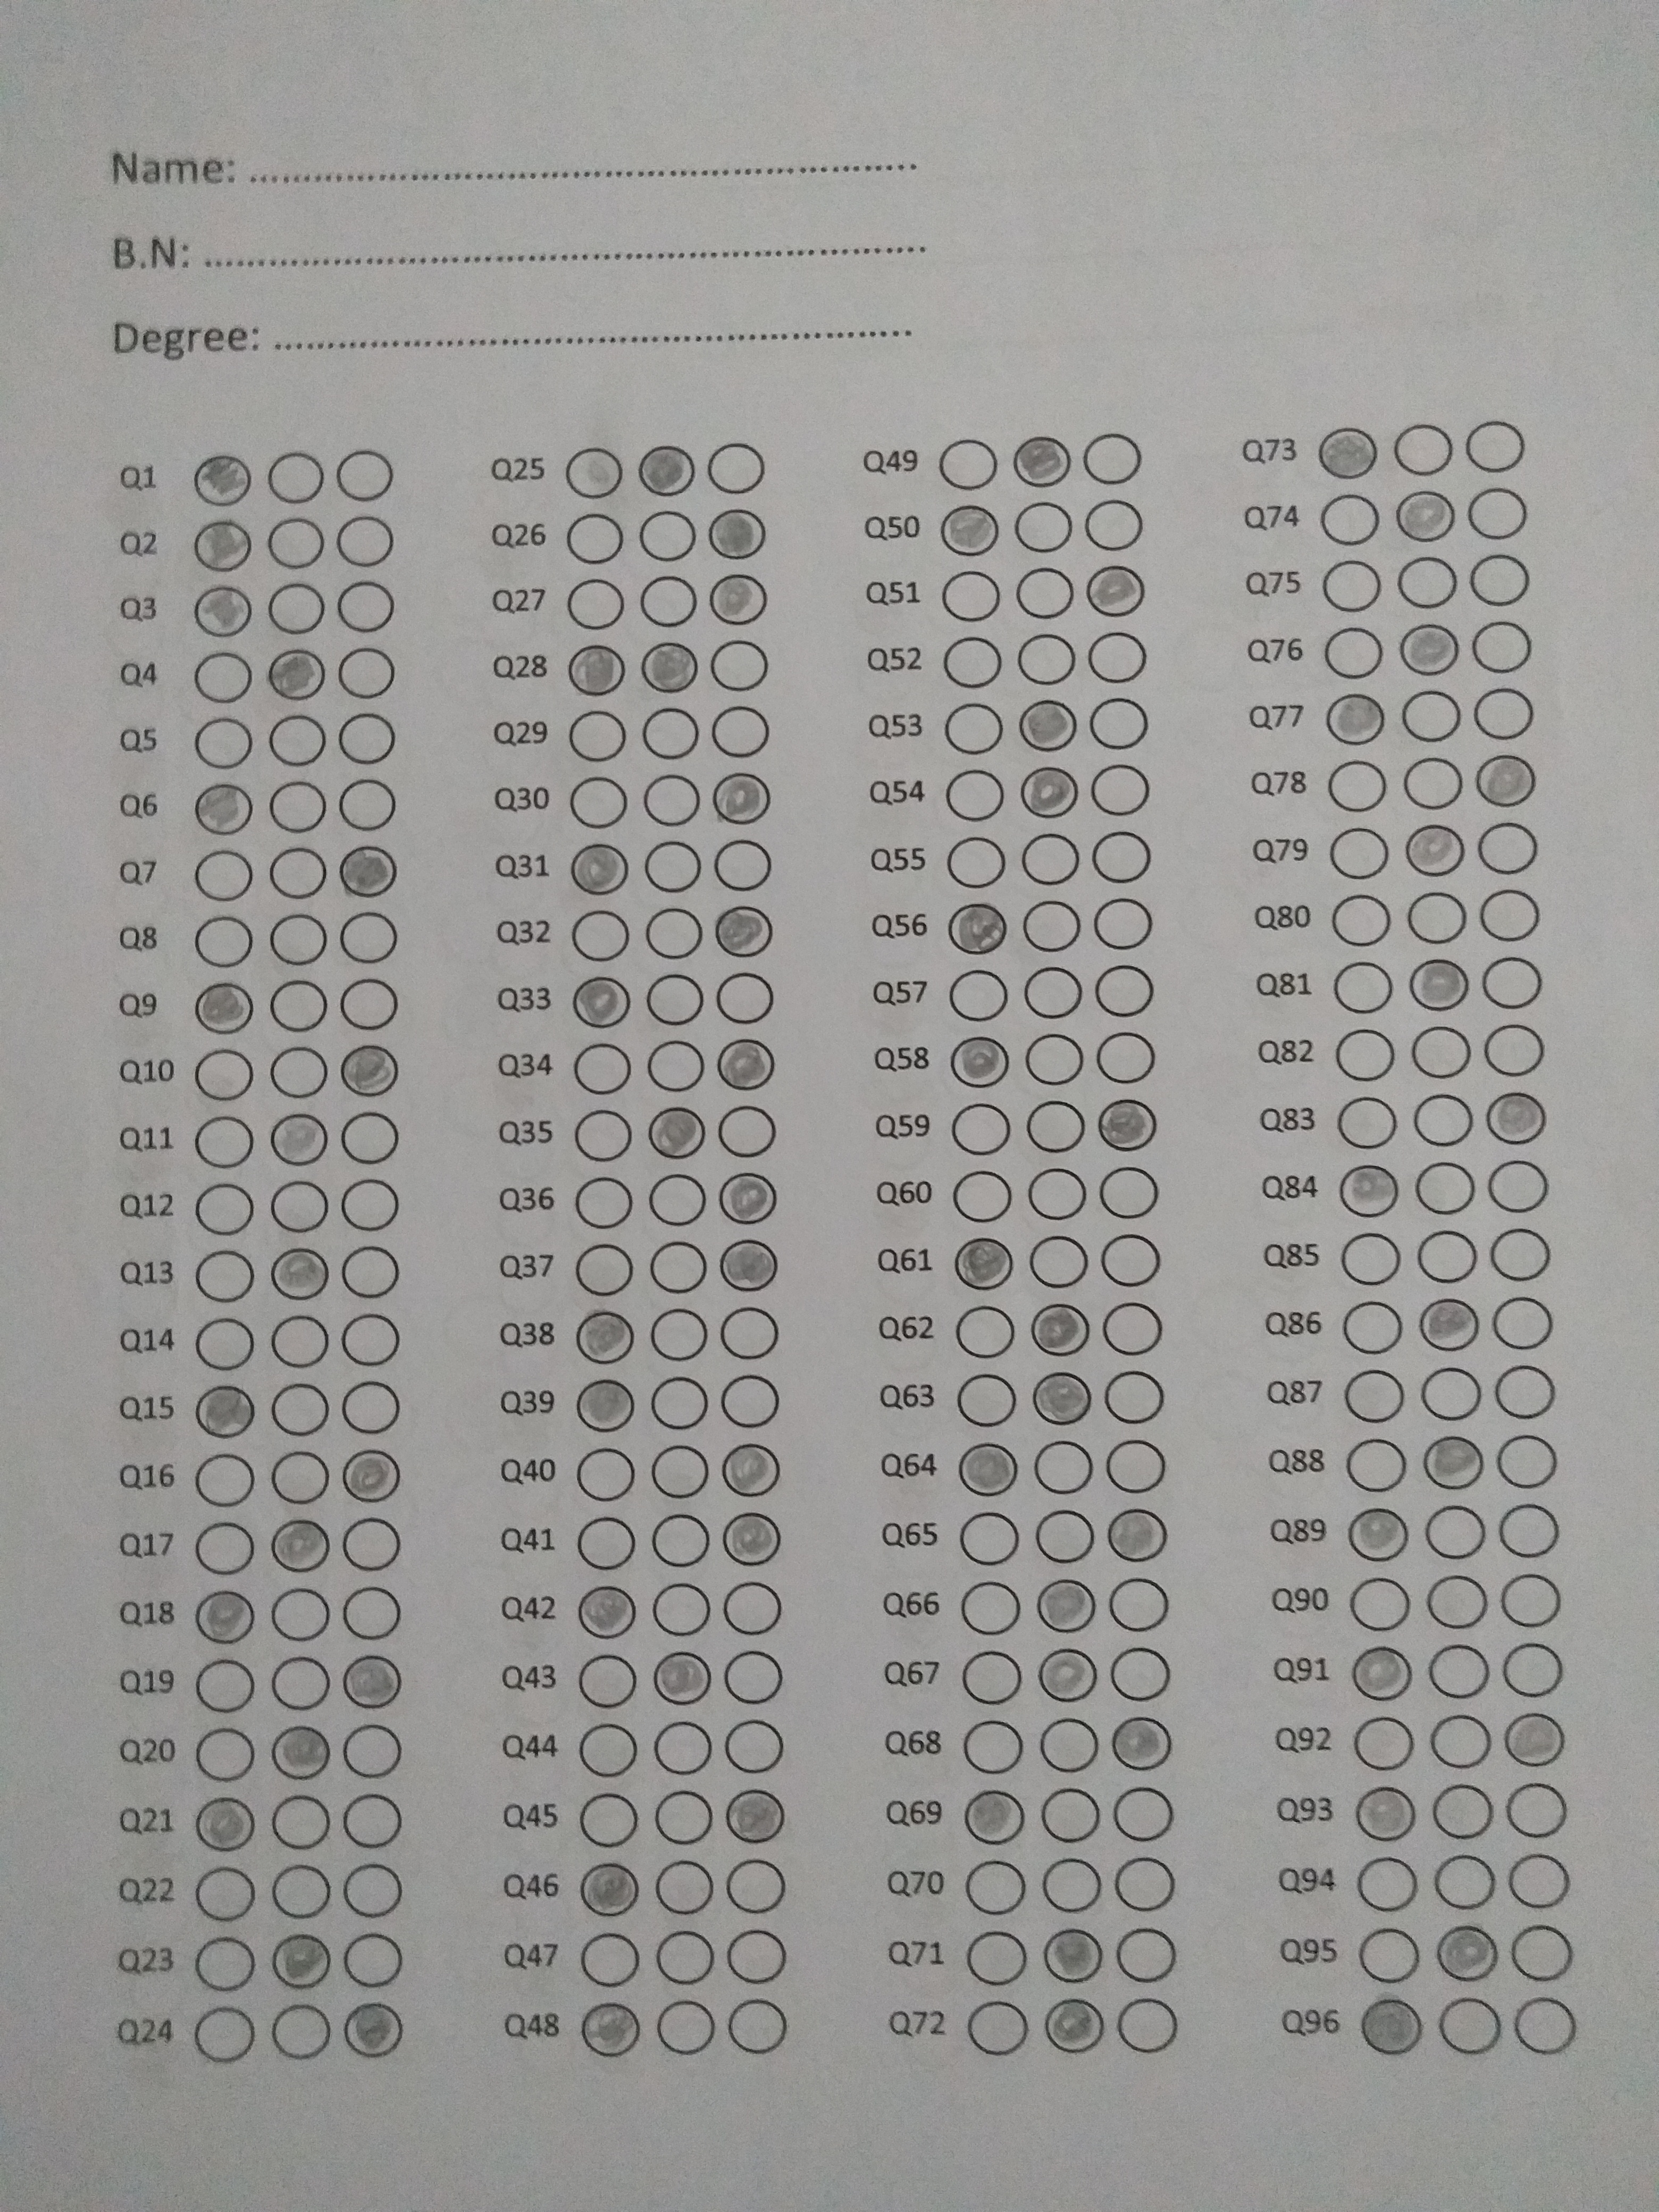not-c: (1436, 1991, 1507, 2057), (1340, 1362, 1413, 1426), (1483, 1155, 1554, 1217), (1410, 1155, 1481, 1217), (1016, 1029, 1087, 1092), (941, 698, 1012, 761), (1087, 761, 1159, 824), (1323, 822, 1394, 885), (1330, 1022, 1401, 1085), (1478, 1019, 1549, 1082), (1432, 1848, 1499, 1914), (1513, 1993, 1579, 2059), (1096, 1158, 1166, 1221), (1091, 1026, 1161, 1089), (946, 1094, 1016, 1157), (946, 1162, 1016, 1224), (1331, 1090, 1401, 1153), (1401, 888, 1471, 951), (1014, 827, 1084, 890), (1014, 897, 1084, 960), (1018, 963, 1087, 1026), (1328, 958, 1398, 1021), (1354, 1925, 1424, 1987), (1019, 1162, 1091, 1223), (1396, 752, 1467, 813), (943, 831, 1014, 892), (943, 965, 1014, 1026), (1091, 960, 1162, 1021), (1324, 894, 1396, 954), (1406, 1092, 1478, 1153), (1406, 1024, 1478, 1085), (1506, 1923, 1574, 1986), (1474, 887, 1544, 948), (1021, 1094, 1091, 1155), (1469, 683, 1539, 744), (1323, 756, 1392, 817), (1086, 691, 1155, 752), (939, 765, 1009, 826), (1089, 829, 1159, 890), (1091, 895, 1161, 956), (1471, 817, 1540, 878), (1480, 954, 1549, 1015), (1492, 1362, 1560, 1423), (1338, 1230, 1408, 1289), (1396, 685, 1466, 744), (572, 1103, 634, 1167), (1419, 1362, 1483, 1425), (1014, 627, 1080, 688), (1486, 1224, 1554, 1284), (1338, 1299, 1410, 1355), (1506, 1850, 1570, 1911), (1467, 552, 1532, 611), (1321, 556, 1385, 615), (1012, 561, 1077, 620), (1391, 418, 1455, 477), (1086, 627, 1150, 686), (938, 434, 1002, 493), (1080, 428, 1145, 488), (1467, 615, 1532, 674), (634, 507, 701, 564), (265, 446, 326, 507), (333, 444, 394, 505), (962, 1716, 1025, 1775), (1396, 554, 1459, 613), (1467, 484, 1530, 543), (1464, 415, 1527, 474), (1009, 496, 1072, 556), (1084, 496, 1147, 556), (939, 564, 1002, 624), (941, 632, 1004, 691), (1492, 1292, 1556, 1350), (1317, 489, 1382, 547), (1497, 1501, 1563, 1557), (193, 1043, 254, 1103), (1429, 1644, 1490, 1703), (1117, 1996, 1180, 2054), (1425, 1571, 1488, 1629), (1500, 1641, 1563, 1698), (960, 1649, 1023, 1707), (1417, 1228, 1480, 1285), (1323, 622, 1385, 679), (268, 777, 328, 836), (267, 712, 326, 772), (709, 702, 769, 761), (711, 636, 770, 695), (638, 573, 697, 632), (195, 845, 254, 904), (268, 580, 328, 639), (270, 1176, 329, 1235), (342, 1176, 401, 1235), (647, 1036, 706, 1096), (573, 1036, 633, 1096), (340, 974, 399, 1033), (195, 911, 254, 970), (721, 1371, 781, 1430), (342, 1310, 401, 1369), (270, 1379, 329, 1439), (723, 1578, 782, 1637), (195, 1517, 254, 1576), (270, 1446, 329, 1505), (650, 1440, 709, 1500), (727, 1926, 786, 1986), (1040, 1714, 1100, 1773), (965, 1857, 1025, 1916), (1117, 1925, 1176, 1984), (967, 1926, 1026, 1986), (657, 1998, 716, 2057), (1507, 1782, 1567, 1841), (1432, 1784, 1492, 1843), (1351, 1576, 1410, 1635), (1502, 1571, 1561, 1630), (1354, 1716, 1413, 1775), (1030, 1231, 1089, 1291), (960, 1507, 1019, 1566), (1035, 1507, 1094, 1566), (270, 909, 329, 967), (193, 648, 253, 705), (645, 902, 702, 961), (572, 906, 631, 963), (336, 646, 396, 704), (268, 845, 328, 902), (565, 442, 624, 500), (336, 775, 396, 833), (335, 510, 394, 568), (193, 714, 253, 772), (706, 441, 765, 498), (713, 836, 772, 894), (643, 836, 702, 894), (568, 773, 627, 831), (566, 705, 626, 763), (568, 575, 626, 634), (565, 509, 624, 566), (336, 711, 396, 768), (195, 1111, 254, 1169), (340, 1108, 399, 1165), (340, 909, 399, 967), (268, 975, 328, 1033), (714, 968, 774, 1026), (645, 970, 704, 1028), (343, 1378, 401, 1437), (577, 1446, 636, 1503), (720, 1305, 779, 1362), (270, 1313, 329, 1371), (648, 1305, 708, 1362), (650, 1238, 709, 1296), (647, 1170, 706, 1228), (575, 1174, 634, 1231), (195, 1313, 254, 1371), (340, 1242, 399, 1299), (268, 1042, 328, 1099), (652, 1580, 711, 1637), (195, 1726, 254, 1784), (195, 1864, 254, 1921), (195, 1655, 254, 1712), (272, 1655, 331, 1712), (270, 1585, 329, 1642), (342, 1583, 401, 1641), (342, 1517, 401, 1575), (195, 1449, 254, 1507), (650, 1514, 709, 1571), (579, 1514, 638, 1571), (1108, 1578, 1168, 1635), (272, 2003, 331, 2060), (195, 2005, 254, 2062), (197, 1933, 256, 1991), (343, 1930, 403, 1987), (579, 1791, 638, 1848), (653, 1789, 713, 1846), (723, 1716, 782, 1773), (653, 1717, 713, 1775), (579, 1721, 638, 1778), (723, 1649, 782, 1707), (579, 1653, 638, 1710), (343, 1792, 403, 1850), (1114, 1784, 1173, 1841), (1042, 1785, 1101, 1843), (1044, 1855, 1103, 1912), (1115, 1855, 1175, 1912), (969, 2000, 1028, 2057), (728, 1998, 788, 2055), (1358, 1855, 1417, 1912), (1347, 1435, 1406, 1493), (1425, 1501, 1485, 1559), (1431, 1712, 1490, 1770), (1497, 1432, 1556, 1489), (1101, 1231, 1161, 1289), (1107, 1437, 1166, 1494), (955, 1305, 1014, 1362), (1105, 1369, 1164, 1426), (958, 1372, 1016, 1432), (1033, 1439, 1093, 1496), (962, 1580, 1021, 1637), (1112, 1646, 1171, 1703), (573, 1242, 634, 1298), (336, 578, 394, 636), (197, 1179, 254, 1237), (643, 768, 701, 826), (643, 704, 701, 761), (267, 514, 324, 571), (650, 1374, 708, 1432), (718, 1101, 775, 1158), (197, 1245, 254, 1303), (657, 1926, 714, 1984), (582, 1932, 640, 1989), (727, 1857, 784, 1914), (655, 1857, 713, 1914), (274, 1860, 331, 1918), (343, 1860, 401, 1918), (272, 1792, 329, 1850), (343, 1723, 401, 1780), (1103, 1299, 1161, 1357)
taken-c: (1406, 953, 1473, 1015), (1359, 1994, 1424, 2057), (1354, 1784, 1420, 1844), (1417, 1294, 1483, 1355), (1349, 1644, 1417, 1703), (570, 1308, 638, 1367), (1420, 1433, 1486, 1493), (1037, 1644, 1103, 1703), (1432, 1926, 1500, 1984), (962, 1785, 1025, 1846), (575, 1374, 638, 1435), (190, 451, 254, 510), (190, 516, 254, 575), (647, 1103, 711, 1162), (946, 899, 1011, 958), (1401, 820, 1466, 880), (1502, 1712, 1567, 1771), (1108, 1712, 1173, 1771), (720, 1510, 784, 1569), (708, 571, 774, 629), (1483, 1090, 1549, 1148), (1105, 1507, 1173, 1562), (1326, 688, 1387, 749), (1044, 1926, 1107, 1986), (1030, 1299, 1093, 1359), (192, 582, 256, 639), (953, 1235, 1018, 1292), (579, 1860, 643, 1918), (193, 1383, 258, 1440), (936, 503, 1002, 559), (1314, 425, 1380, 481), (1474, 752, 1540, 808), (190, 1588, 256, 1644), (267, 1245, 333, 1301), (565, 977, 633, 1031), (343, 2000, 404, 2059), (270, 1932, 331, 1991), (195, 1794, 256, 1853), (270, 1723, 331, 1782), (565, 641, 627, 698), (714, 902, 777, 960), (718, 1170, 781, 1228), (948, 1033, 1011, 1090), (1037, 1578, 1100, 1635), (1032, 1369, 1094, 1426), (580, 2001, 643, 2059), (340, 1653, 403, 1710), (192, 981, 256, 1036), (708, 772, 772, 827), (268, 1519, 333, 1575), (1093, 1097, 1159, 1151), (638, 441, 697, 500), (193, 780, 254, 838), (1044, 1998, 1105, 2055), (716, 1237, 777, 1294), (575, 1581, 636, 1639), (342, 1446, 403, 1503), (1018, 697, 1080, 752), (1086, 563, 1148, 618), (1396, 488, 1459, 543), (1399, 622, 1462, 678), (1347, 1508, 1410, 1564), (652, 1651, 714, 1707), (955, 1444, 1019, 1498), (268, 646, 328, 704), (340, 843, 399, 900), (1340, 1162, 1399, 1219), (270, 1109, 331, 1165), (570, 843, 631, 899), (1014, 434, 1075, 489), (725, 1789, 786, 1844), (640, 639, 702, 693), (721, 1442, 784, 1496), (706, 509, 770, 561), (338, 1043, 401, 1096), (714, 1036, 774, 1090), (1019, 768, 1080, 820)
